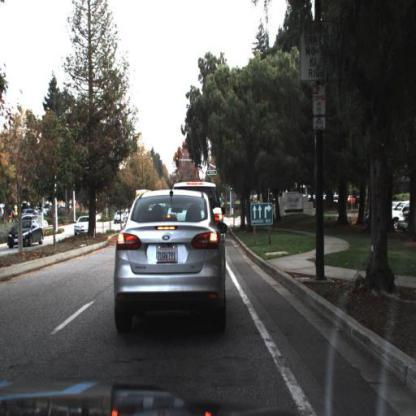car: (113, 188, 227, 336), (10, 218, 46, 252), (389, 199, 408, 230), (209, 183, 222, 225), (72, 214, 92, 237), (75, 217, 90, 236), (114, 210, 128, 224)
trafficLight: (176, 157, 181, 168)
